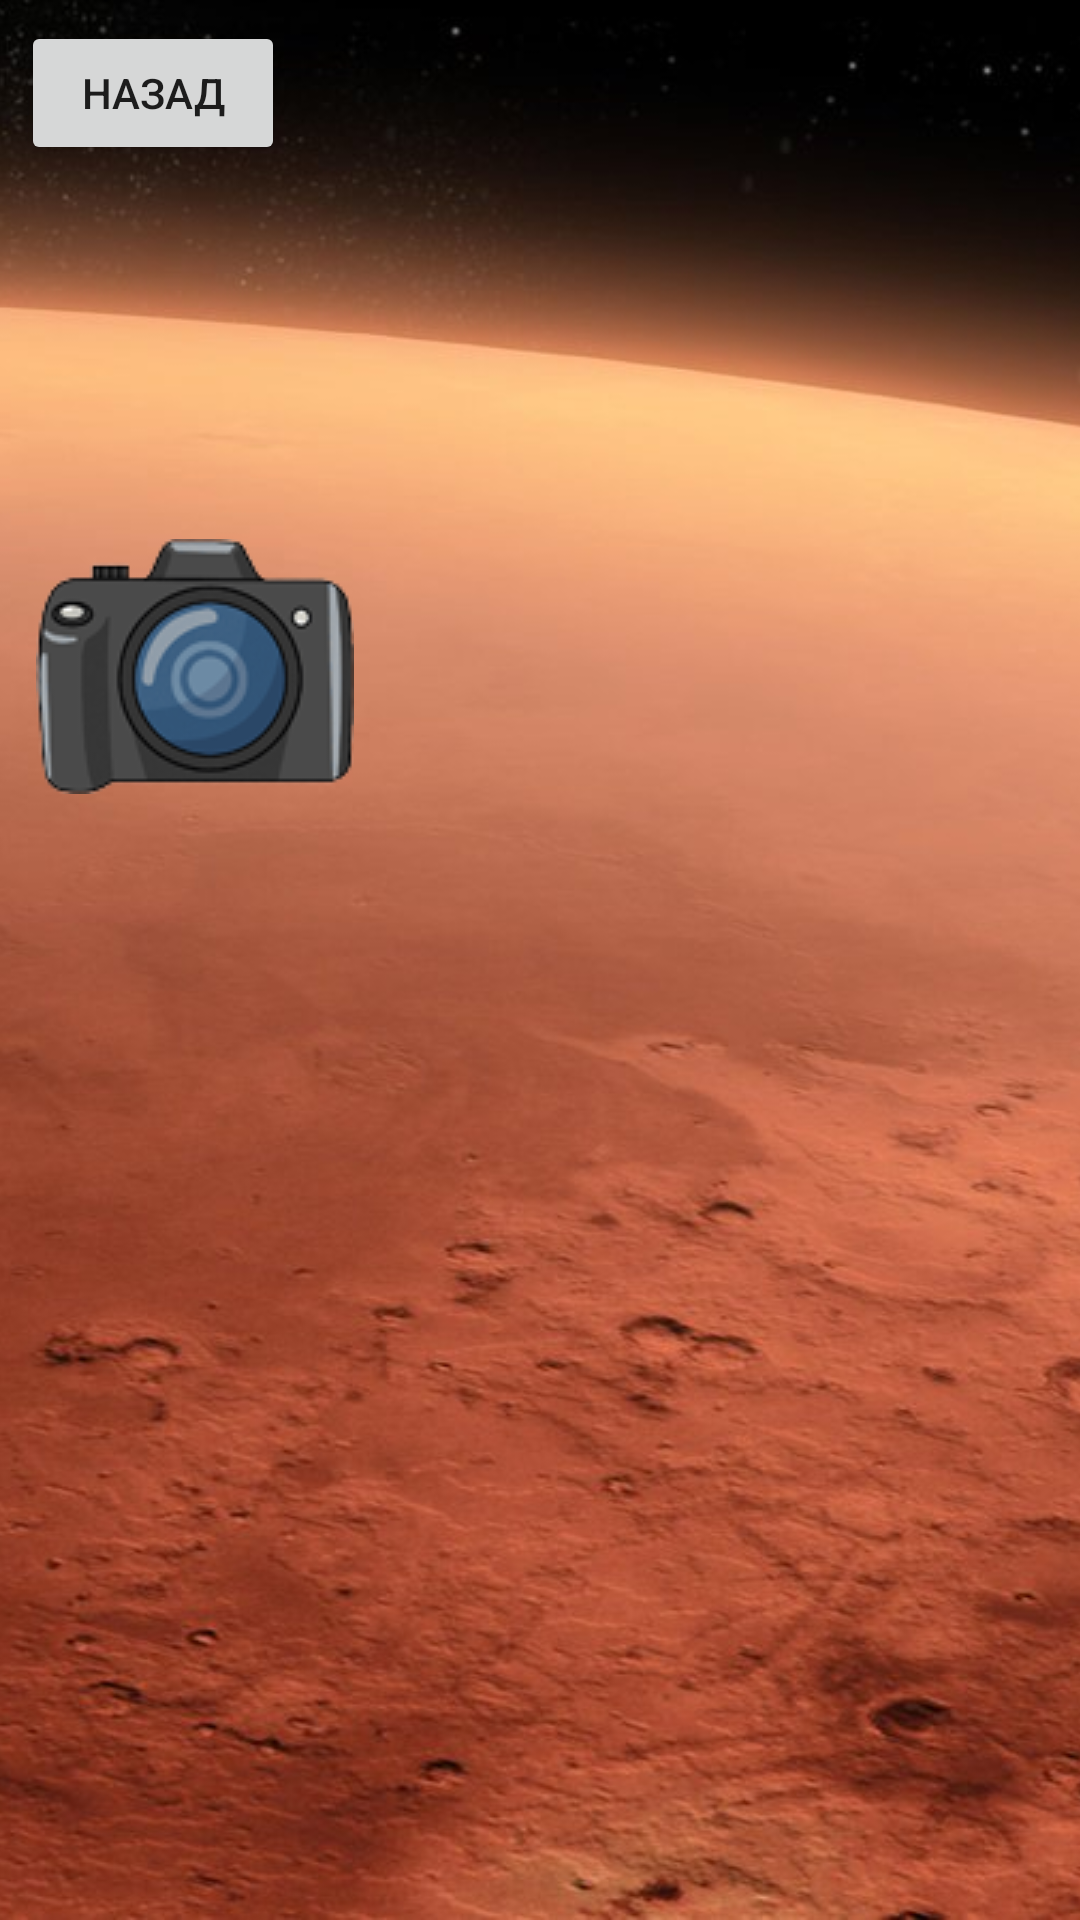

Screen size 1080×1920. Icon name, then its center in pixels as point (x, y):
photo: point (195, 666)
